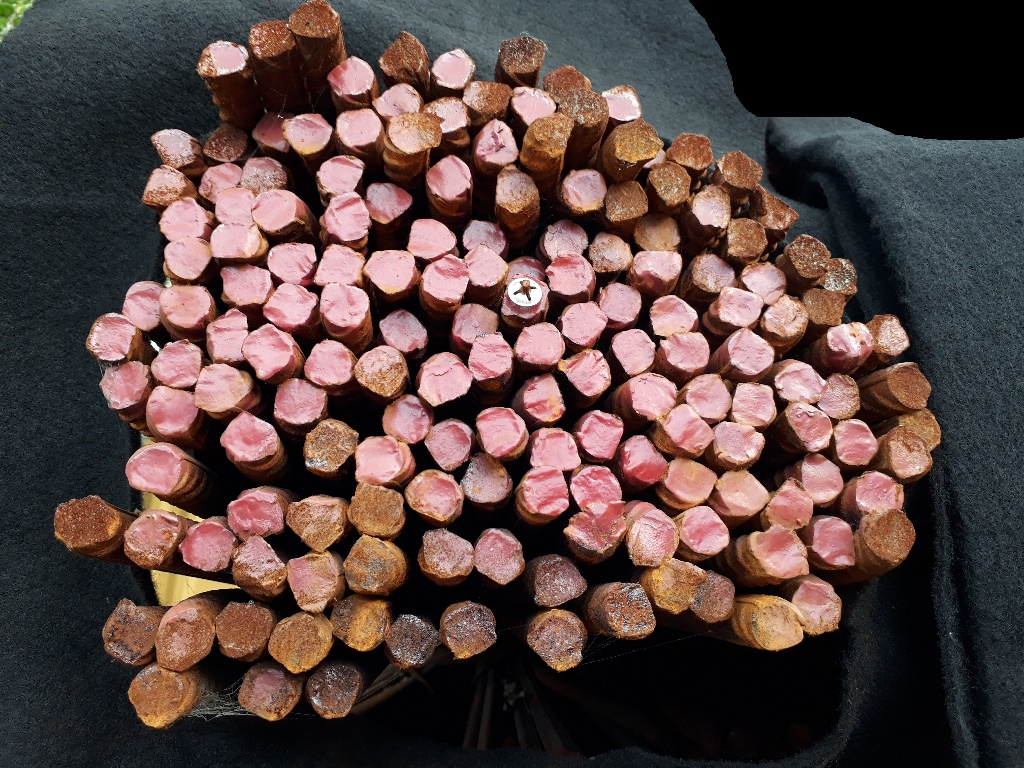dipstick: (127, 667, 195, 728), (343, 532, 407, 596), (100, 600, 161, 666), (265, 616, 330, 675), (229, 536, 287, 600), (54, 494, 119, 550), (527, 610, 585, 672), (154, 612, 214, 671), (123, 509, 181, 568), (235, 666, 299, 719), (347, 482, 405, 539), (214, 603, 273, 659), (416, 528, 476, 582), (404, 467, 465, 520), (627, 507, 679, 567), (219, 414, 280, 465), (287, 496, 344, 550), (290, 552, 342, 611), (442, 604, 498, 658), (330, 594, 384, 650), (241, 324, 294, 381), (652, 558, 705, 615), (382, 615, 438, 668), (474, 527, 525, 585), (563, 505, 625, 552), (144, 386, 201, 437), (791, 576, 842, 633), (303, 421, 357, 474), (603, 582, 656, 636), (306, 664, 359, 718), (179, 522, 236, 572), (193, 366, 252, 414), (660, 405, 714, 457), (862, 510, 916, 562), (417, 356, 472, 407), (126, 445, 181, 496), (534, 556, 586, 609), (752, 597, 803, 651), (713, 469, 769, 517), (149, 339, 203, 388), (223, 497, 285, 539), (557, 348, 611, 396), (757, 531, 811, 579), (763, 480, 814, 530), (352, 435, 406, 482), (797, 450, 844, 504), (271, 377, 326, 423), (663, 458, 718, 504), (461, 454, 511, 504), (354, 347, 403, 398), (784, 402, 833, 453), (260, 285, 317, 328), (425, 419, 473, 469), (527, 428, 581, 472), (157, 285, 212, 328), (302, 339, 351, 387), (322, 192, 369, 242), (98, 361, 149, 407), (475, 407, 520, 459), (364, 249, 417, 293), (205, 309, 248, 363), (885, 359, 933, 407), (681, 507, 729, 555), (87, 312, 137, 358), (626, 373, 677, 418), (690, 571, 735, 622), (579, 411, 623, 463), (571, 466, 624, 509), (832, 420, 879, 468), (420, 256, 471, 300), (621, 435, 665, 486), (219, 263, 271, 306), (378, 33, 425, 80), (685, 372, 732, 419), (887, 430, 933, 478), (467, 331, 512, 380), (516, 321, 565, 366), (381, 396, 430, 441), (812, 520, 857, 569), (318, 285, 368, 328), (560, 169, 608, 213), (122, 281, 164, 331), (730, 380, 774, 427), (857, 471, 904, 515), (163, 237, 211, 280), (649, 295, 697, 338), (633, 249, 682, 291), (139, 166, 189, 207), (496, 37, 547, 77), (612, 328, 655, 375), (429, 48, 477, 90), (267, 241, 315, 283), (407, 217, 455, 259), (194, 41, 247, 79), (388, 115, 441, 153), (284, 113, 333, 154), (363, 183, 413, 223), (739, 263, 789, 303), (660, 332, 710, 372), (155, 201, 209, 238), (474, 120, 518, 165), (730, 329, 774, 374), (814, 373, 858, 418), (895, 408, 941, 451), (329, 55, 376, 97), (749, 192, 796, 234), (380, 312, 427, 354), (287, 4, 343, 39), (149, 129, 200, 167), (648, 161, 692, 205), (785, 235, 829, 279), (563, 301, 606, 346), (547, 252, 593, 294), (452, 303, 498, 345), (496, 167, 537, 214), (718, 152, 765, 193), (315, 246, 363, 286), (500, 278, 548, 318), (428, 156, 472, 199), (802, 285, 848, 326), (250, 189, 297, 229), (524, 373, 563, 421), (775, 365, 823, 404), (689, 183, 730, 228), (511, 87, 558, 126), (559, 90, 607, 128), (611, 124, 659, 162), (247, 22, 296, 59), (692, 254, 737, 294), (715, 287, 762, 325), (211, 224, 259, 261), (462, 218, 510, 255), (198, 164, 243, 203), (603, 180, 648, 219), (636, 215, 681, 254), (587, 233, 633, 271), (425, 98, 469, 137), (465, 248, 510, 286), (317, 155, 364, 191), (667, 133, 712, 170), (763, 299, 808, 336), (202, 124, 246, 161), (726, 219, 767, 258), (544, 66, 591, 100), (826, 323, 873, 357), (337, 110, 379, 148), (817, 257, 859, 295), (599, 284, 641, 322), (544, 222, 589, 257), (465, 78, 511, 112), (252, 114, 293, 152), (870, 314, 908, 354), (375, 85, 421, 118), (239, 159, 285, 192), (527, 120, 568, 157), (602, 87, 644, 122), (217, 189, 255, 225)
